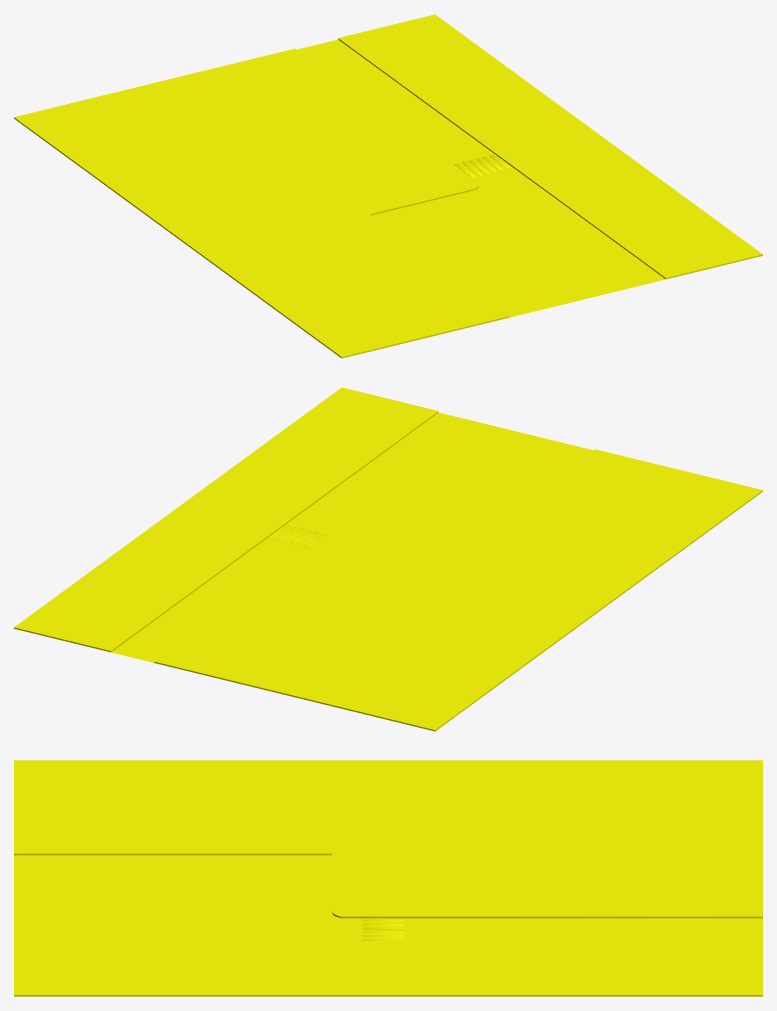
3 renders of one model, top to bottom at view 1: azimuth 30°, elevation 25°; view 2: azimuth 150°, elevation 25°; view 3: azimuth 270°, elevation 25°, orthographic. The views are drawn at different scales.
Visible parts, largest first — view 1: military_ground; view 2: military_ground; view 3: military_ground.
Boxes of the visible parts, x1,y1,x2,y2 form: military_ground: [14, 14, 762, 358]; military_ground: [14, 387, 762, 731]; military_ground: [14, 760, 762, 996].
Size of the model in its own units: 0.4923 by 0.00164 by 0.6636.
1 material, 1 textured.
